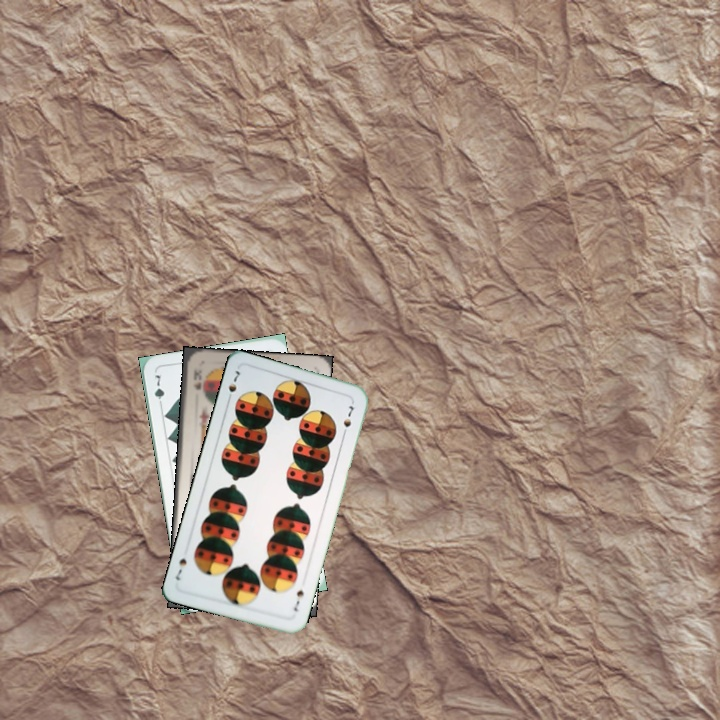G7: (150, 371, 167, 410)
S7: (223, 366, 242, 405), (289, 586, 306, 614)
SK: (189, 365, 204, 392)
